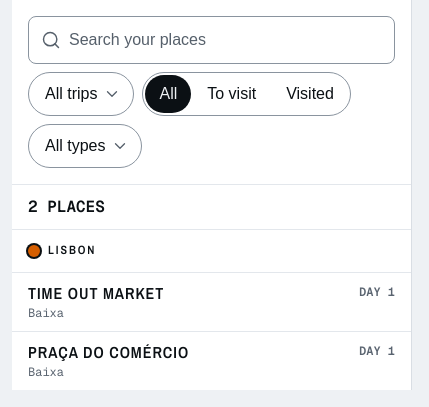
it: Places tab states › shows no results, and Clear filters brings the list back
Step 1. Type "nothing like this" into the search field labelled "Search your places" → (212, 40), box [29,17,394,63]
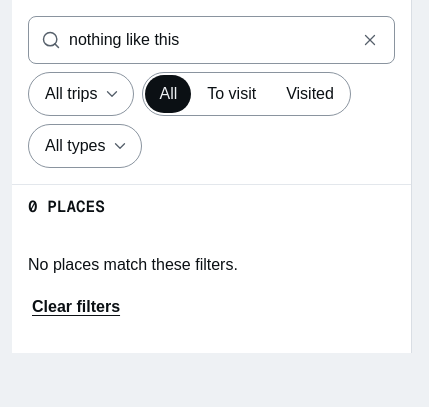
Expected: the text "No places match these filters." is shown, [28,253,238,277]
Expected: the heading "0 places" is shown, [28,196,105,217]
Step 2. Click the button "Clear filters" → (76, 307), box [28,285,124,329]
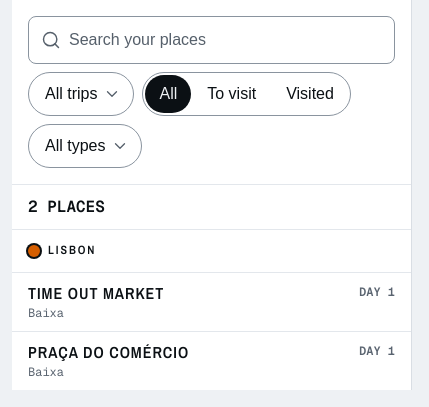
Expected: the text "No places match these filters." is gone
Expected: the heading "2 places" is shown, [28,196,105,217]
Expected: the search field labelled "Search your places" is empty, [29,17,394,63]
